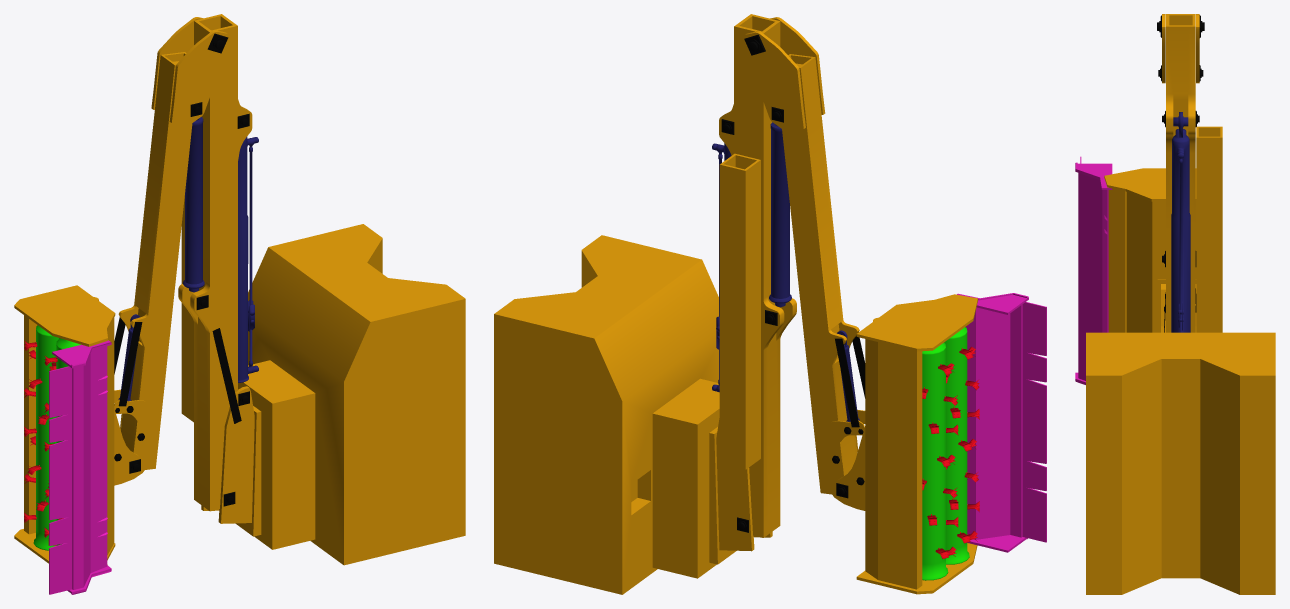
Rendered from EpareuseNoCable.fbx.
3 renders of one model, left to right at view 1: azimuth 30°, elevation 25°; view 2: azimuth 150°, elevation 25°; view 3: azimuth 270°, elevation 25°, orthographic. The views are drawn at different scales.
Parts seen in each view (by area): view 1: Caisse, Bras.002, Bras.001, Protection, SupportRouleau, CaisseLame, Suspension, Rouleaux, Suspension.001, Bras, Support.001, PlaqueBoulon.001 (+3 smaller); view 2: Caisse, Bras.002, Protection, CaisseLame, Bras, Bras.001, Rouleaux, SupportRouleau, Suspension.001, Support.001, PlaqueBoulon.001, Lames.001 (+2 smaller); view 3: Caisse, CaisseLame, Bras.001, Protection, Bras, Suspension, SupportRouleau, Bras.002, Support.001.
Part boxes in pixels (<box>): Caisse: <box>201,224,465,565</box>; Bras.002: <box>118,17,229,469</box>; Bras.001: <box>178,14,252,511</box>; Protection: <box>49,340,111,594</box>; SupportRouleau: <box>14,285,115,564</box>; CaisseLame: <box>24,315,114,554</box>; Suspension: <box>238,136,258,382</box>; Rouleaux: <box>33,325,80,550</box>; Suspension.001: <box>183,117,204,292</box>; Bras: <box>181,195,193,422</box>; Support.001: <box>114,408,146,485</box>; PlaqueBoulon.001: <box>114,317,142,406</box>; Caisse: <box>494,235,772,594</box>; Bras.002: <box>743,17,859,494</box>; Protection: <box>957,293,1046,552</box>; CaisseLame: <box>865,339,922,589</box>; Bras: <box>719,153,760,469</box>; Bras.001: <box>719,14,796,537</box>; Rouleaux: <box>922,327,969,580</box>; SupportRouleau: <box>856,294,977,594</box>; Suspension.001: <box>769,122,791,307</box>; Support.001: <box>830,426,865,510</box>; PlaqueBoulon.001: <box>835,336,865,427</box>; Lames.001: <box>922,363,958,558</box>; Caisse: <box>1086,332,1275,594</box>; CaisseLame: <box>1108,188,1196,332</box>; Bras.001: <box>1166,14,1195,332</box>; Protection: <box>1075,156,1112,384</box>; Bras: <box>1196,126,1222,332</box>; Suspension: <box>1171,112,1190,332</box>; SupportRouleau: <box>1104,168,1196,201</box>; Bras.002: <box>1162,14,1199,83</box>; Support.001: <box>1157,279,1196,332</box>.
Size of the model in its own units: 370 by 443 by 166.
